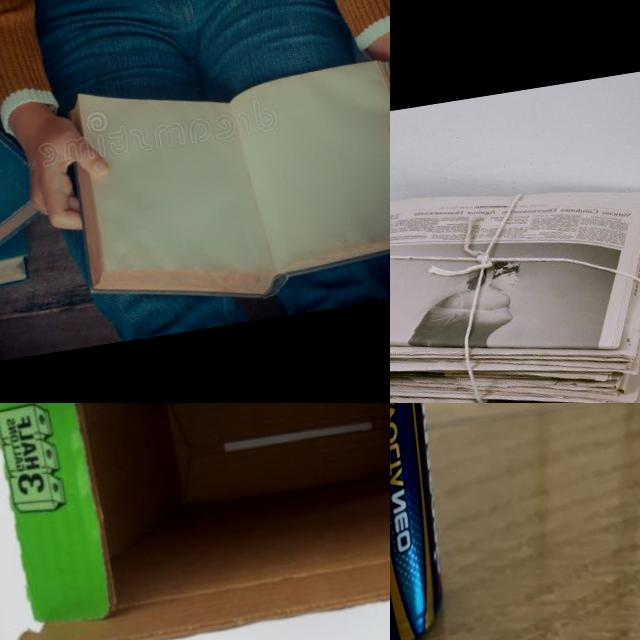bateria: (390, 403, 472, 640)
papel: (55, 37, 390, 327), (390, 157, 640, 403), (0, 34, 59, 316)
papelão: (0, 403, 390, 640)
